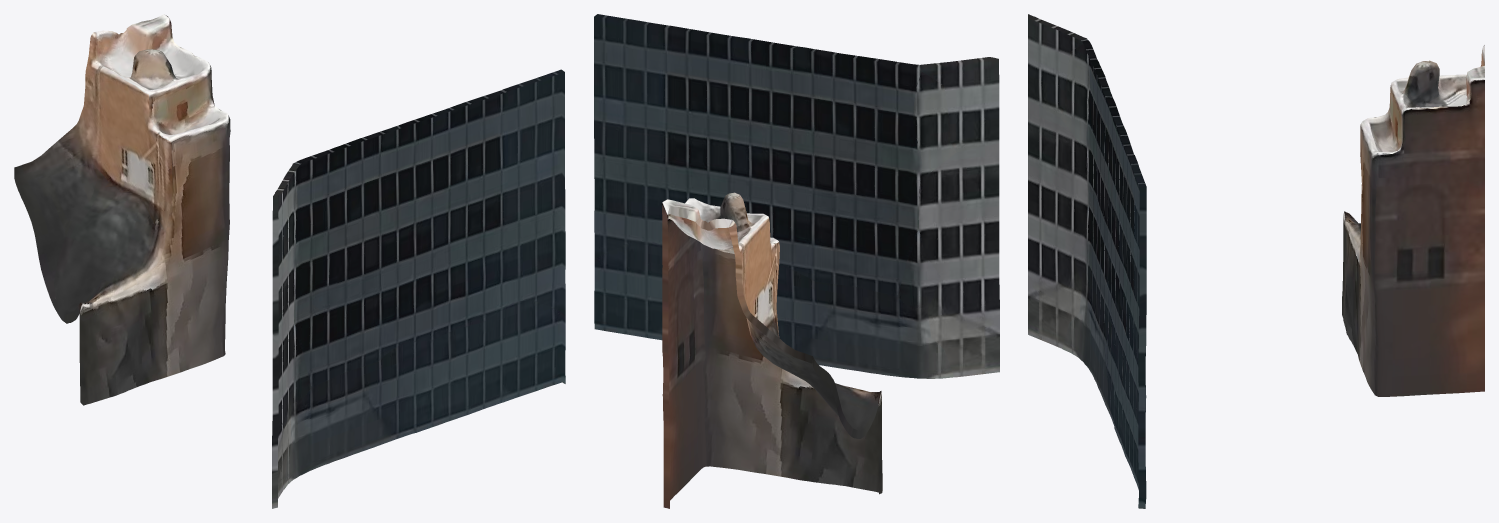
File: z20-167774-405234-h1-yup-uvflip-v3-world.glb
3 views of the same model, side by side, from view 1: azimuth 30°, elevation 25°; view 2: azimuth 150°, elevation 25°; view 3: azimuth 270°, elevation 25° (orthographic). The views are drawn at different scales.
Bounding box in the file's own units: 30.16 × 23.52 × 30.32.
Materials: 1 (1 with a texture image).
